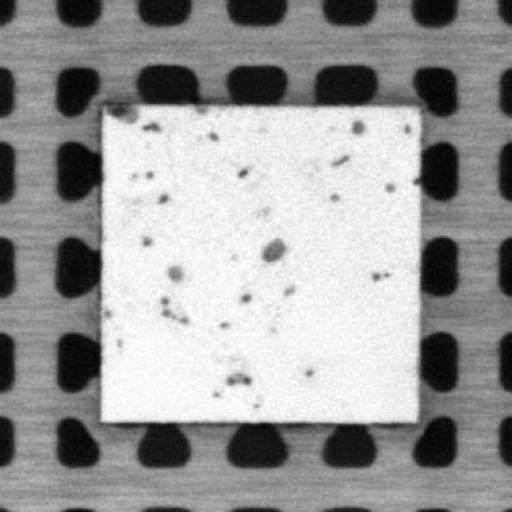DIE_INK: (154, 293, 188, 323), (103, 101, 139, 123), (259, 235, 283, 261), (225, 367, 252, 385), (163, 261, 184, 282), (346, 115, 368, 135), (368, 265, 392, 282), (279, 281, 298, 297), (139, 119, 160, 132), (234, 162, 251, 178), (138, 231, 155, 247), (154, 189, 171, 204), (325, 188, 340, 204), (100, 303, 112, 320), (236, 288, 250, 302), (400, 119, 413, 134), (332, 153, 347, 166), (301, 364, 314, 378), (204, 127, 216, 142), (124, 166, 136, 181), (409, 173, 423, 185), (382, 180, 395, 192), (112, 334, 124, 347), (208, 385, 220, 397), (216, 317, 228, 327), (144, 165, 153, 178)
